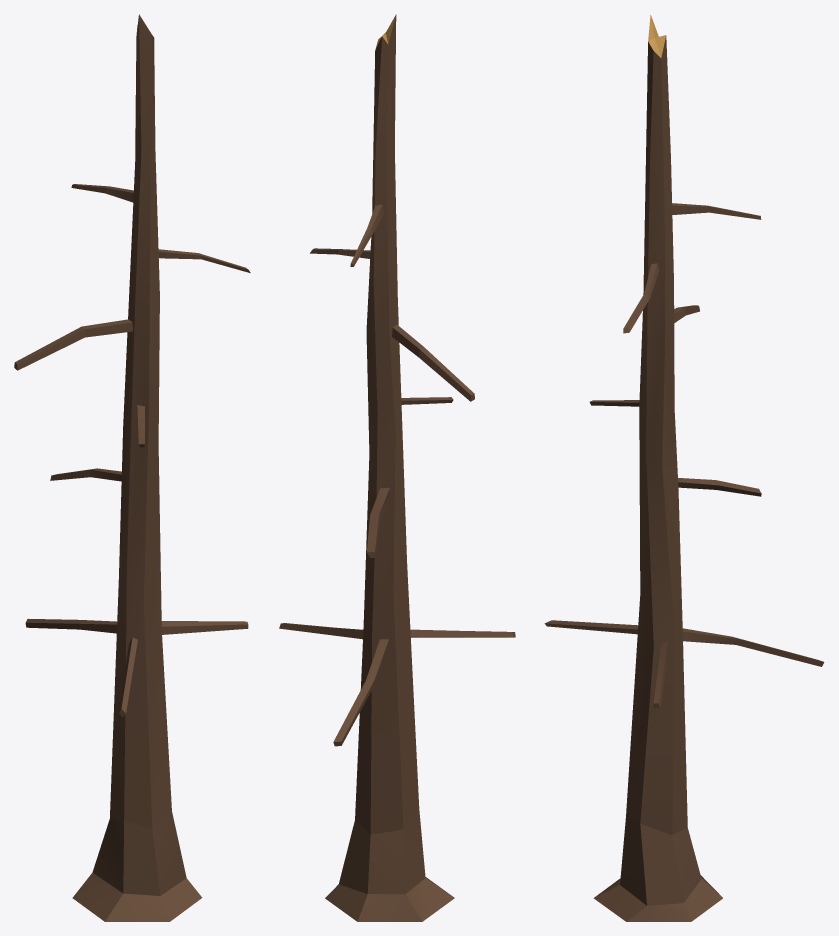
Rendered from FirBrokenA.fbx.
The picture shows the model from 3 angles, left to right: view 1: azimuth 30°, elevation 25°; view 2: azimuth 150°, elevation 25°; view 3: azimuth 270°, elevation 25°; orthographic projection.
Parts seen in each view (by area): view 1: FirBrokenA; view 2: FirBrokenA; view 3: FirBrokenA.
Part boxes in pixels (<box>): FirBrokenA: <box>14,14,250,921</box>; FirBrokenA: <box>279,14,515,921</box>; FirBrokenA: <box>544,15,824,921</box>.
Size of the model in its own units: 356 by 1415 by 407.
